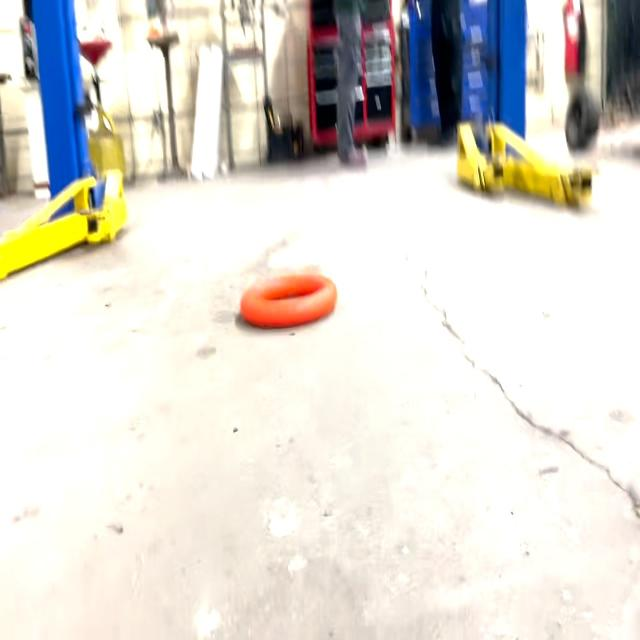note: (239, 271, 336, 334)
